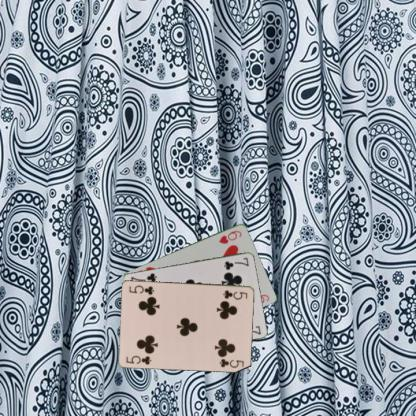5c: (124, 353, 152, 366), (221, 288, 248, 300)
6h: (216, 228, 243, 246)
7c: (221, 255, 250, 271)
